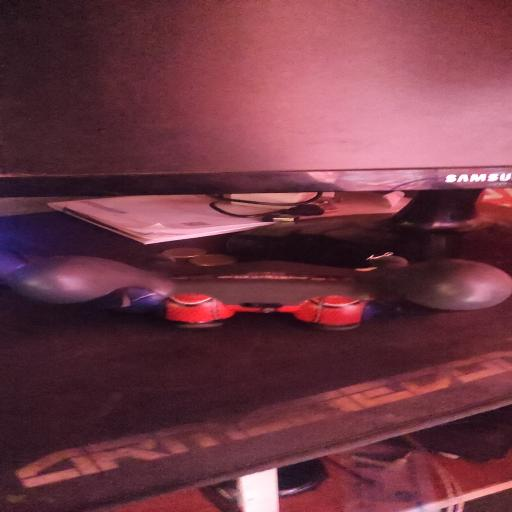ControlPlay4: (0, 252, 512, 330)
